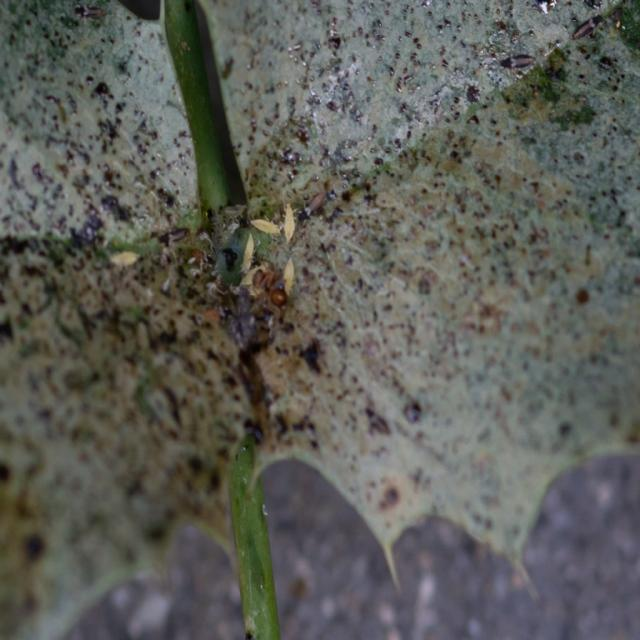Thrip-Larva-: (236, 228, 259, 276), (278, 252, 300, 300), (248, 210, 282, 239), (279, 196, 300, 242), (108, 245, 142, 272)
